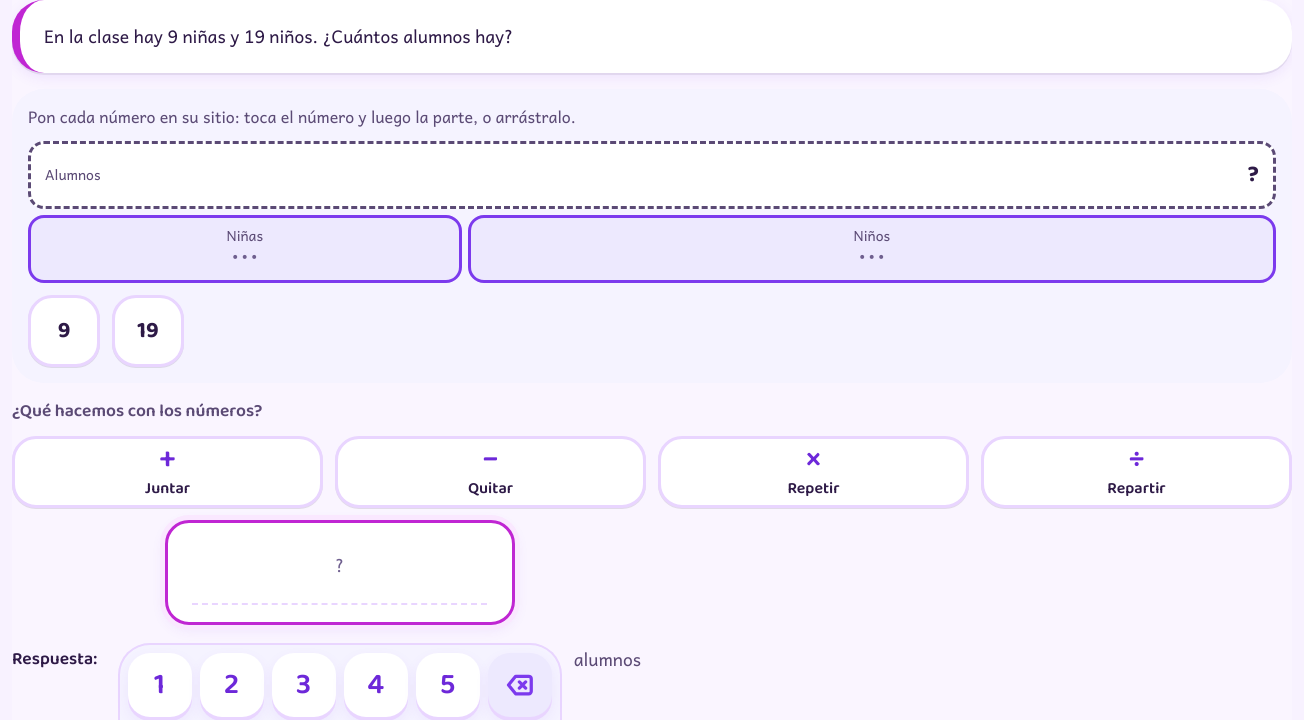
Test case: bar problem view › a tapped number goes to its piece, and the check stays disabled until everything is written
Click the button "9" at (64, 331), box [28,295,100,367]
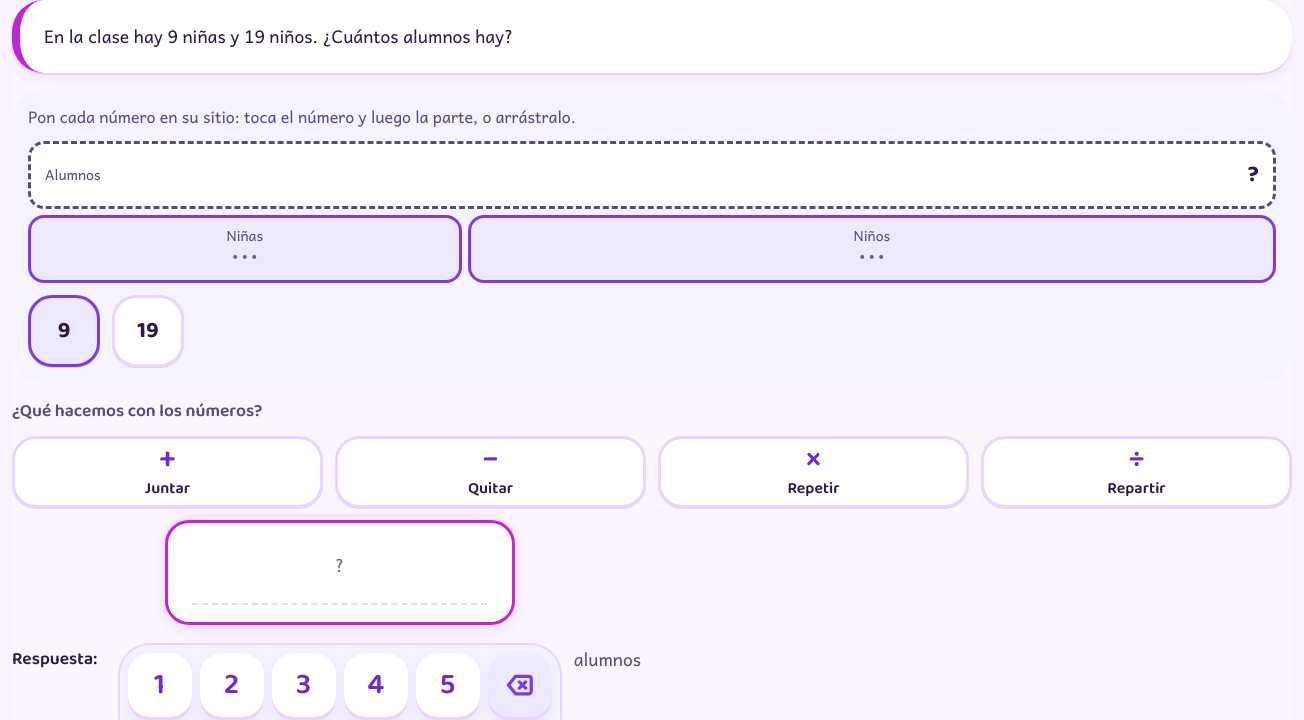
Check: the button "9" is pressed, box [28,295,100,367]
Click the button "Niñas" at (245, 249), box [28,215,462,283]
(page scrolled)
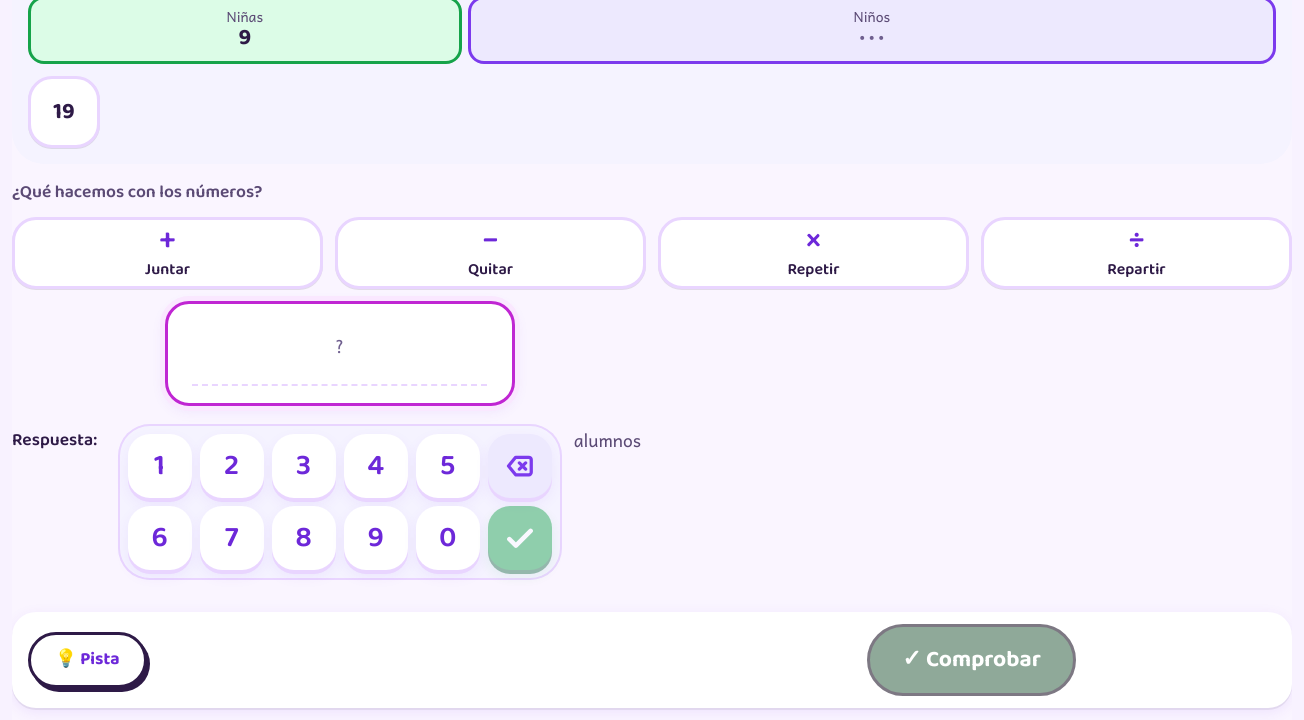
Check: the button "✓ Comprobar" is disabled, box [867,624,1076,696]
Check: the number of buttons "19" is 1, box [28,76,100,148]
